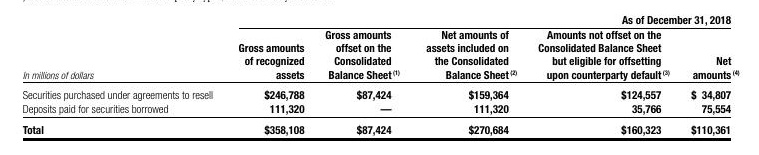table: (0, 0, 759, 155)
